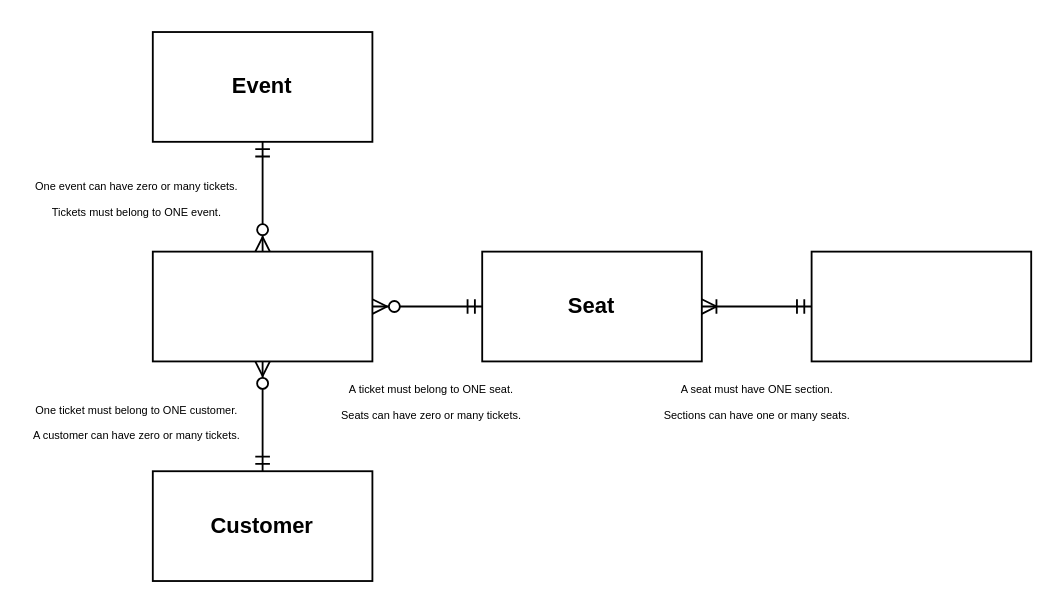
This 1063x613 diagram has some shape labels left out. Each missing label, with the box of its shape:
Section: (810, 250, 1031, 361)
Ticket: (151, 250, 372, 361)
